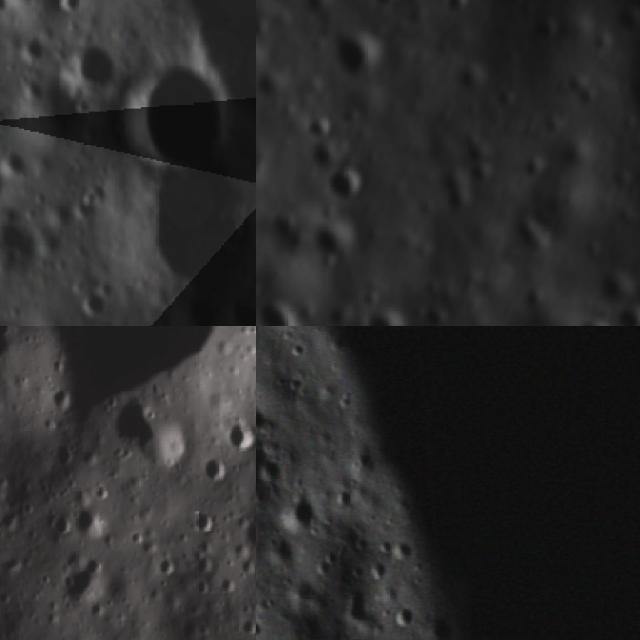crater: (93, 0, 256, 125), (110, 42, 238, 178), (135, 169, 256, 290), (110, 392, 201, 472), (52, 27, 113, 93), (320, 30, 392, 84), (608, 40, 640, 151), (256, 425, 291, 507), (304, 226, 362, 271), (70, 269, 112, 317), (274, 494, 322, 536), (326, 168, 376, 205), (339, 582, 376, 632), (220, 404, 256, 455), (170, 287, 216, 326), (377, 530, 423, 569), (256, 294, 311, 326), (198, 447, 236, 487), (361, 300, 417, 326), (262, 532, 298, 569), (188, 505, 220, 541), (383, 600, 417, 633), (225, 290, 256, 326), (256, 455, 286, 489), (46, 384, 79, 414), (332, 484, 358, 514), (282, 338, 307, 364), (256, 402, 273, 436), (365, 555, 384, 583), (48, 0, 82, 12), (256, 617, 268, 640)
